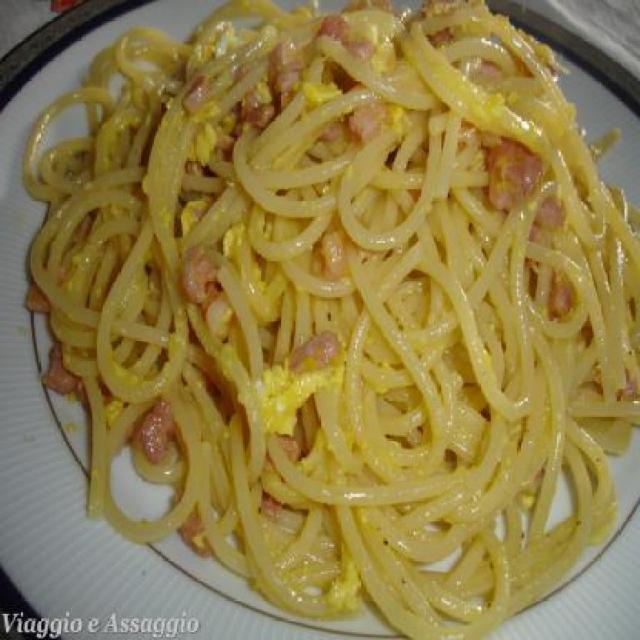Pasta with carbonara sauce: (33, 31, 639, 614)
